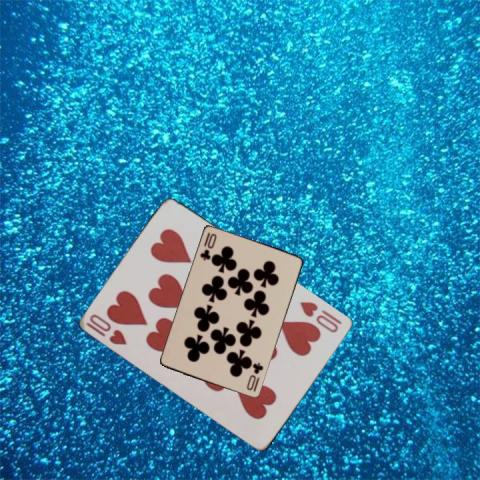10c: (244, 360, 265, 393), (197, 230, 218, 263)
10h: (297, 298, 343, 335), (83, 310, 129, 346)
